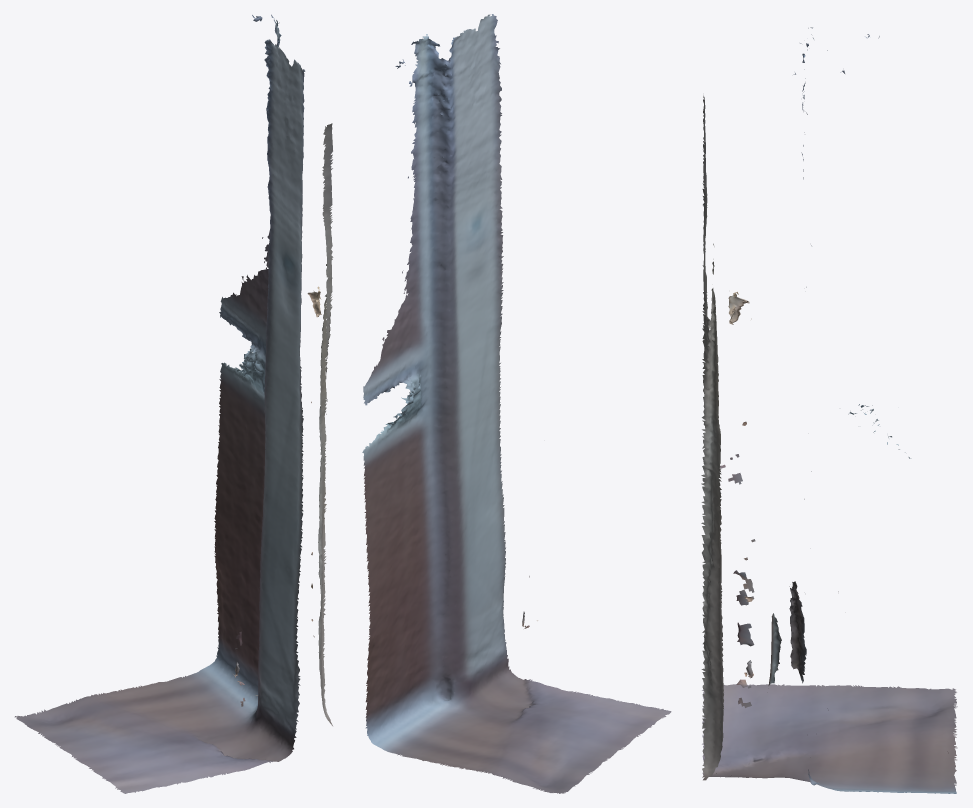
The model's file is apartment-full-54-0fd10e0d149f.glb.
3 views of the same model, side by side, from view 1: azimuth 30°, elevation 25°; view 2: azimuth 150°, elevation 25°; view 3: azimuth 270°, elevation 25° (orthographic). The views are drawn at different scales.
Bounding box in the file's own units: 0.687 × 2.16 × 0.641.
